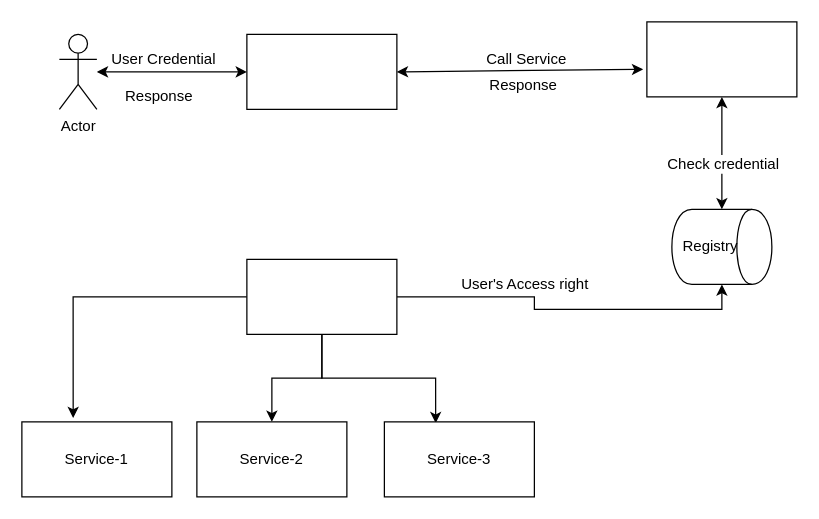
The diagram is 819 pixels wide and 519 high, and some of its shapes have lost their labels. The shapes that lost their labels are listed below. From the top down, each one's centre as x and y in pixels, then its label:
At point 321,71: "Request Manager".
At point 721,59: "Authentication Service".
At point 321,296: "Authorization".
